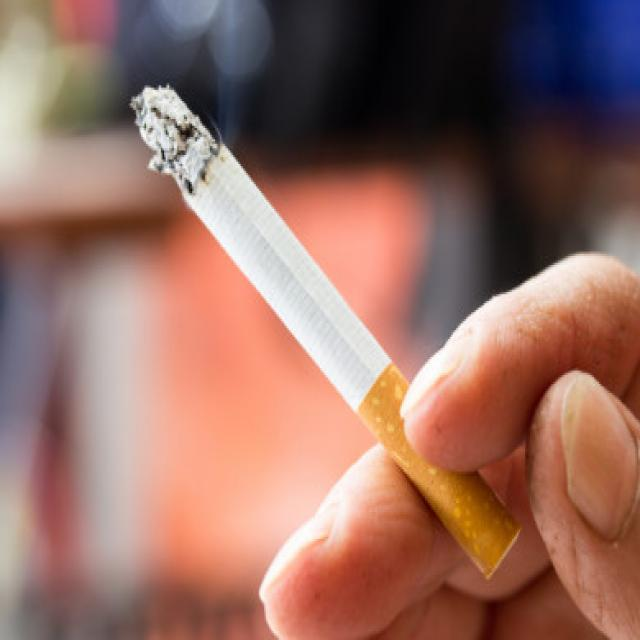cigarette: (128, 68, 419, 428)
